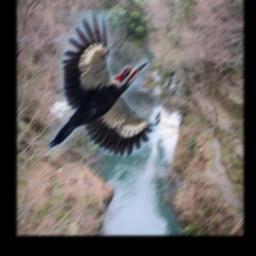Woodpecker: (49, 10, 161, 156)
